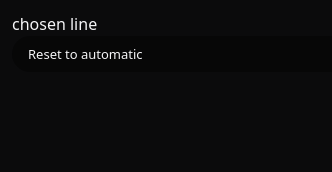
Test: LyricsChoice › resets to the automatic lyrics and asks the backend to drop the choice
Expected: the text "chosen line" is shown, [12,13,97,35]
What coordinates should you click on to do the following:
click the button "Reset to automatic"
I would click on:
 (85, 54)
Its box is [16,40,155,68].
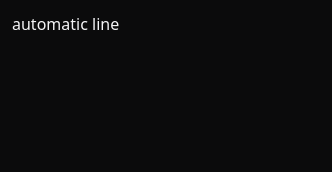
Result: the text "automatic line" is shown at [12,13,119,35]
Result: the button "Reset to automatic" is gone
